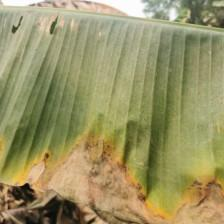pestalotiopsis: (0, 7, 224, 224)
